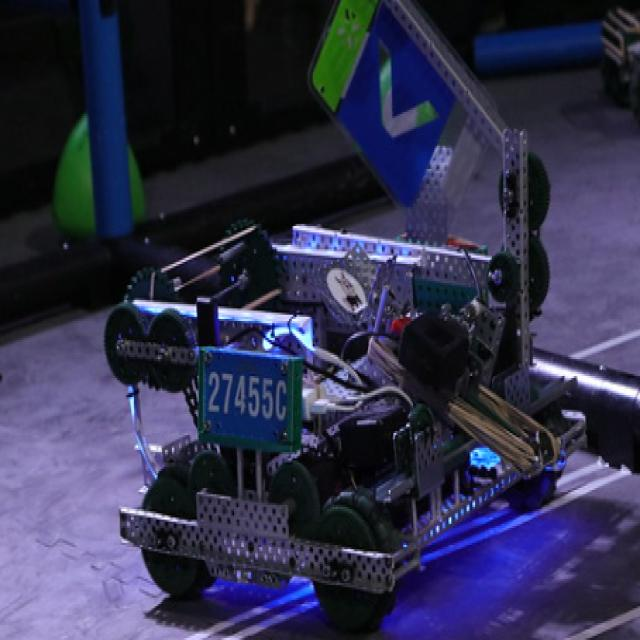License-Plates: (201, 354, 291, 440)
